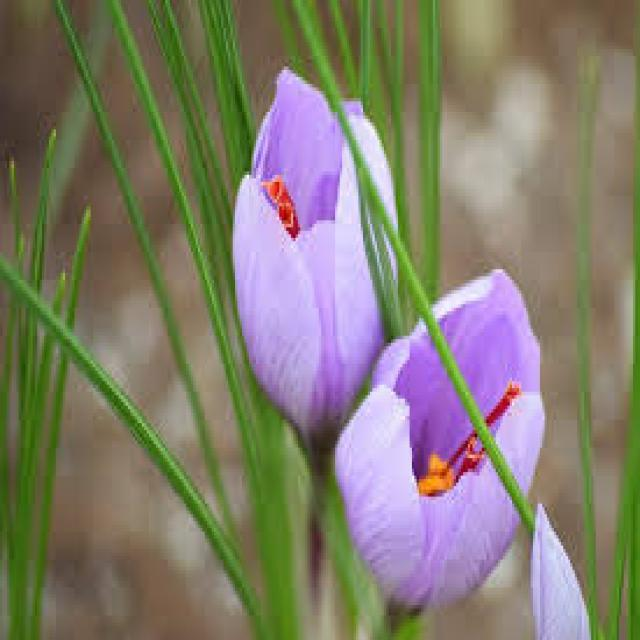Flower: (344, 250, 556, 624), (232, 62, 396, 412)
stigma: (427, 378, 525, 494), (259, 175, 300, 241)
